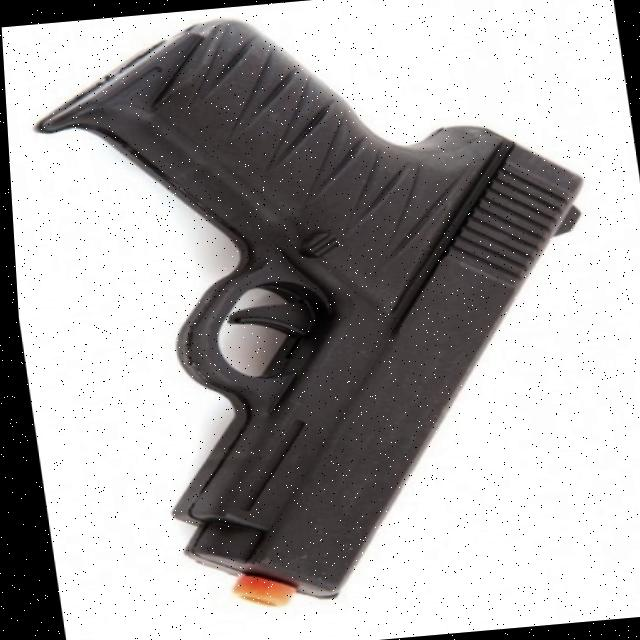pistol: (18, 0, 640, 623)
